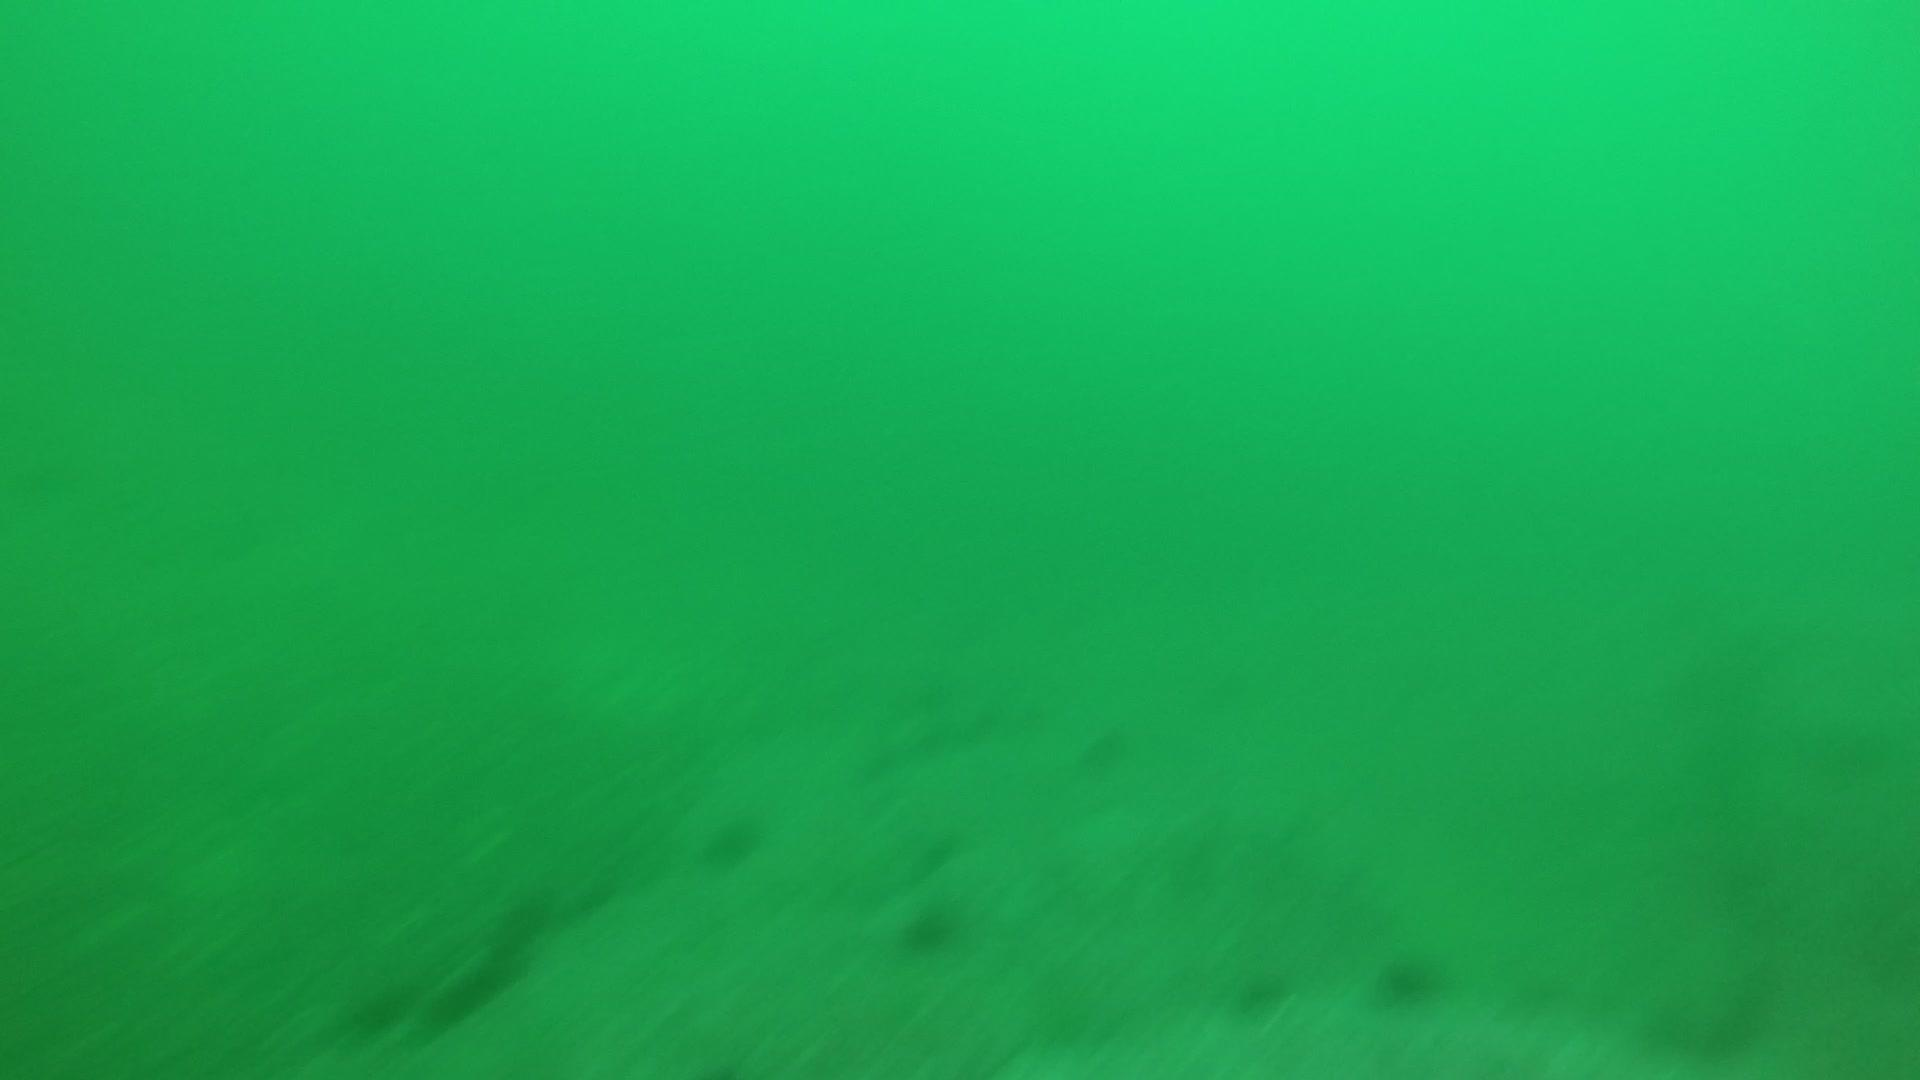echinus: (1371, 945, 1448, 1009), (699, 807, 767, 870), (894, 895, 964, 957), (1228, 963, 1294, 1021)
